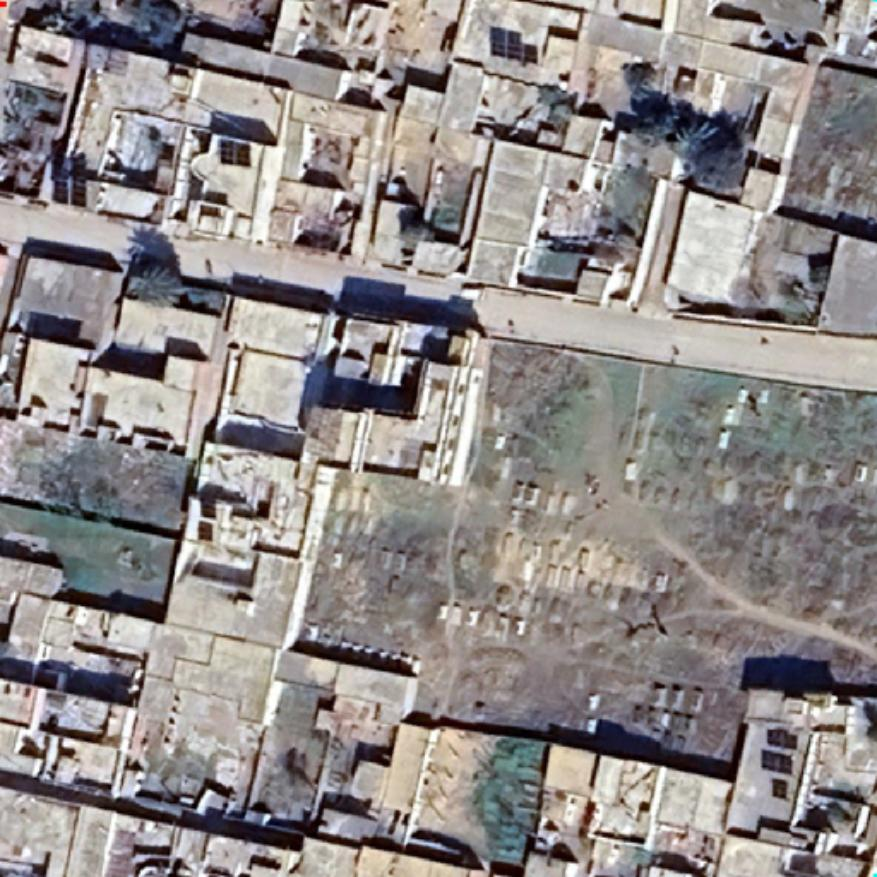Solarpanel: (484, 20, 542, 68), (49, 166, 91, 210), (216, 134, 255, 170), (756, 746, 796, 777), (762, 724, 802, 752), (196, 502, 217, 547), (768, 776, 792, 802)
